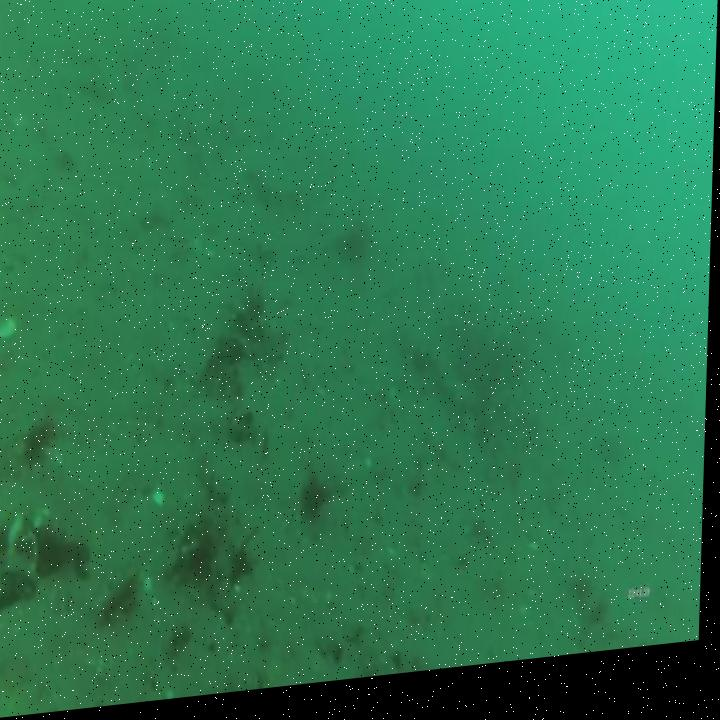echinus: (21, 408, 59, 468), (302, 473, 338, 529), (594, 442, 627, 485), (342, 232, 370, 280)
holothurian: (208, 515, 264, 635)
